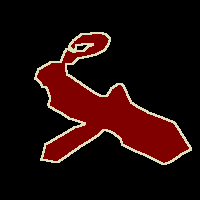tie: (35, 32, 191, 164)
